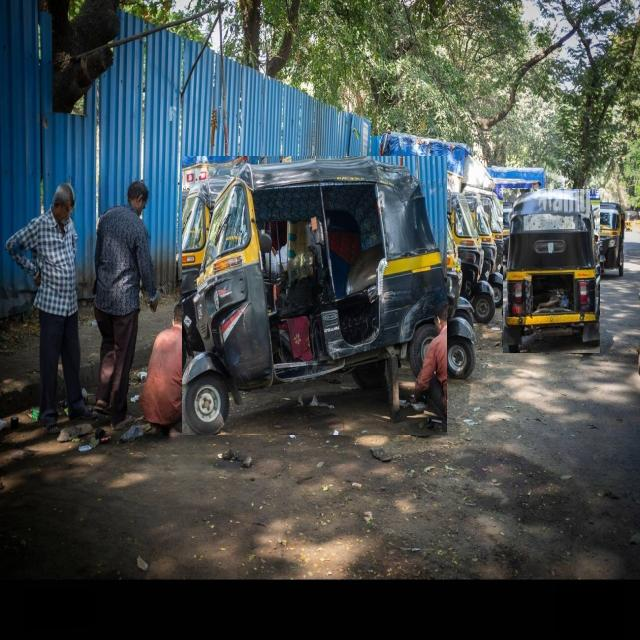autorickshaw: (182, 157, 446, 435), (503, 189, 599, 353), (404, 179, 475, 379), (442, 193, 495, 323), (590, 203, 625, 280)
